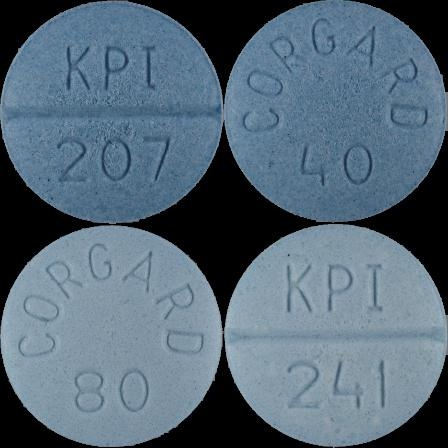59762-0811: (0, 0, 224, 224)
